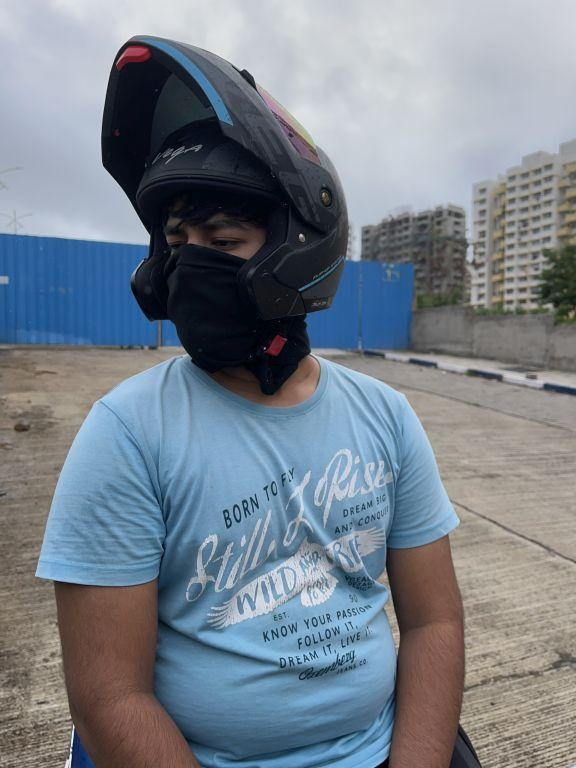helmet: (97, 20, 352, 397)
